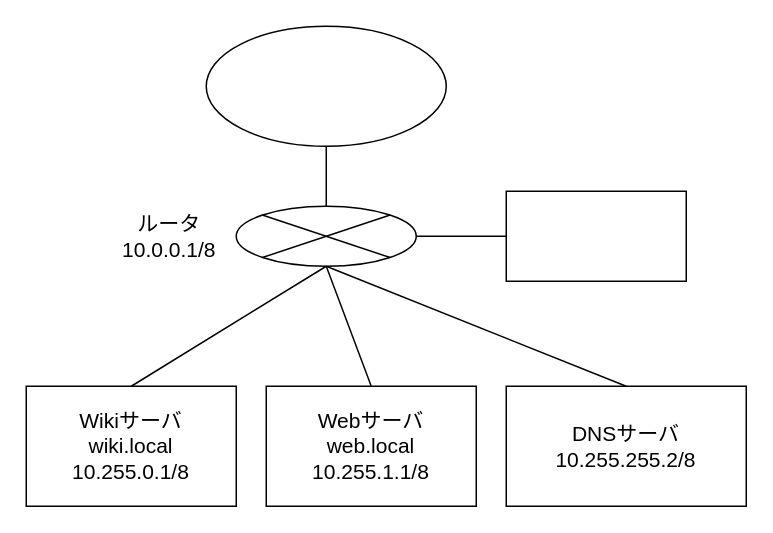
The diagram is 773 pixels wide and 533 high, and some of its shapes have lost their labels. Each missing label, with the centre of its shape:
"インターネット" goes at (325,85).
"クライアントPC" goes at (595,235).
